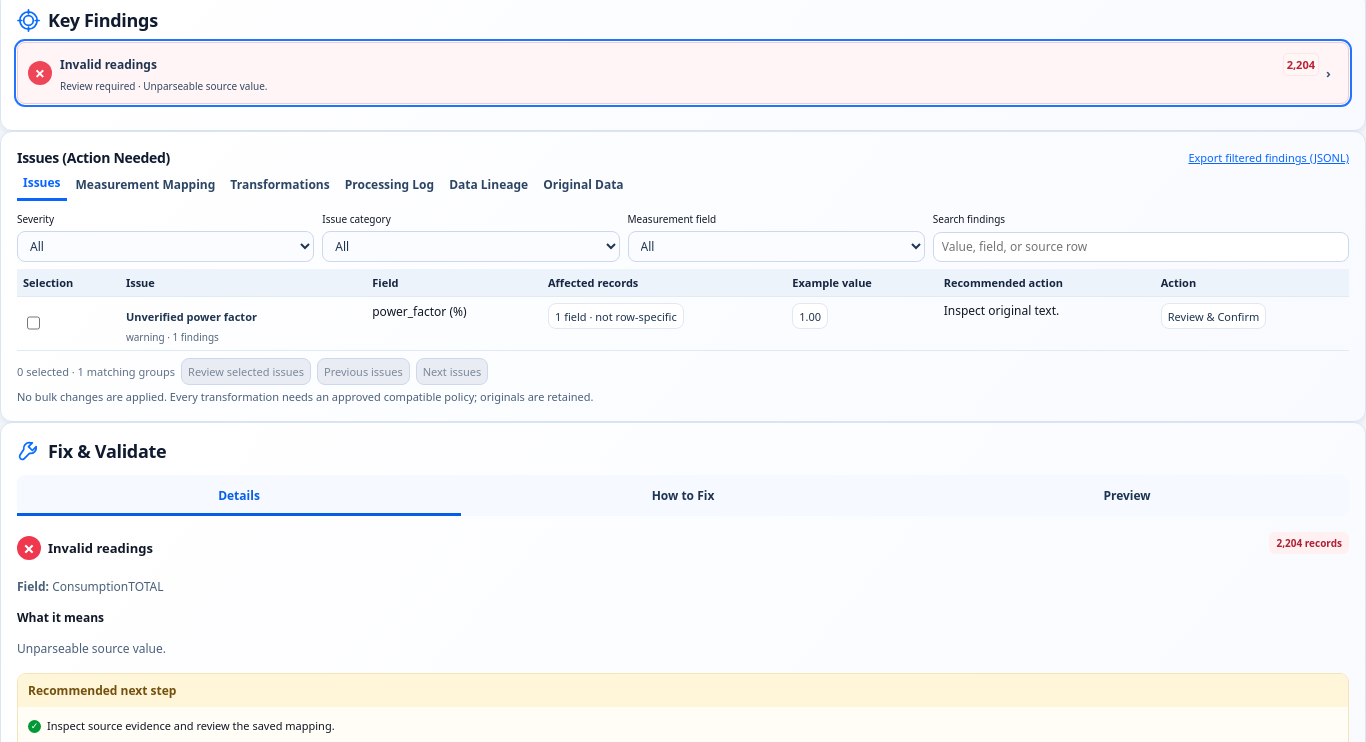
Test: previews a chosen scale without applying it, resets cancelled requests and supports keyboard tabs
Later steps or results of the test are not shown.
Click the button "Review & Confirm" at x=1213, y=316, box [1161,303,1266,329]
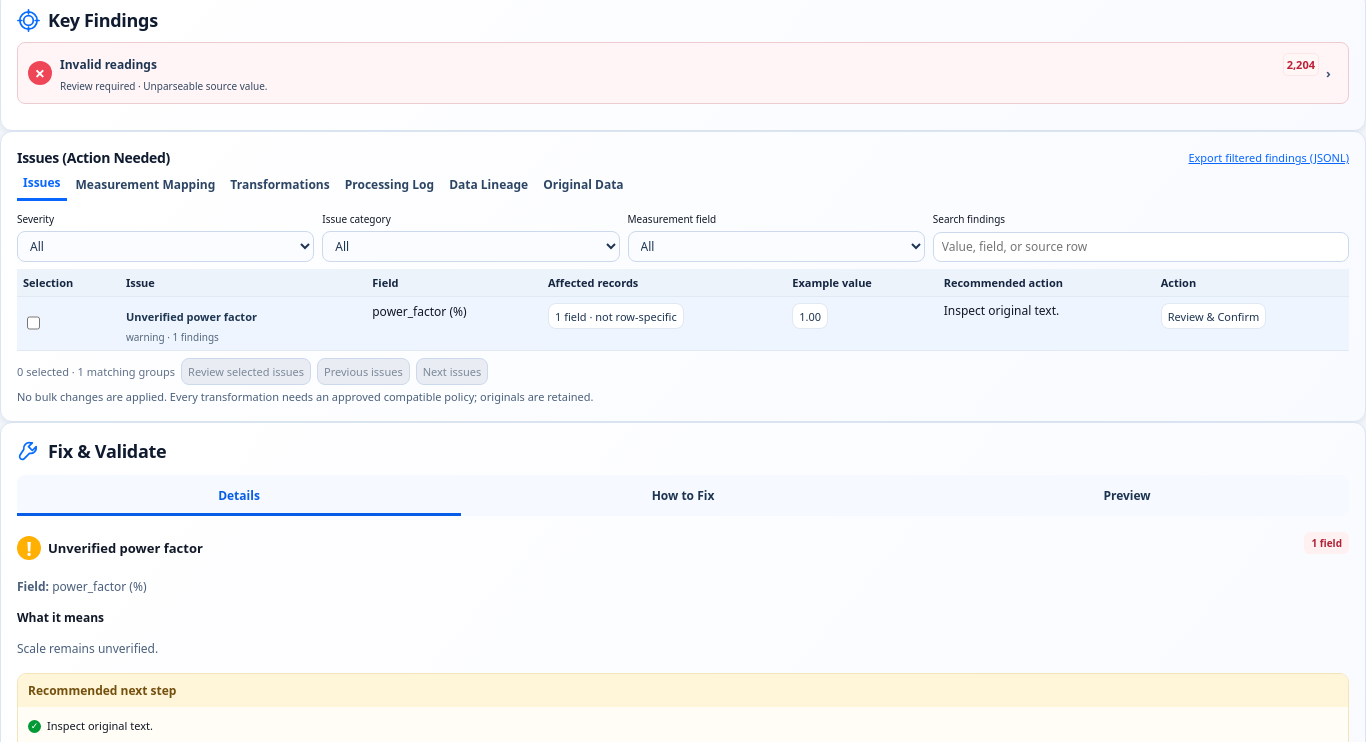
Press End in the tab "Details", box [17,475,461,516]
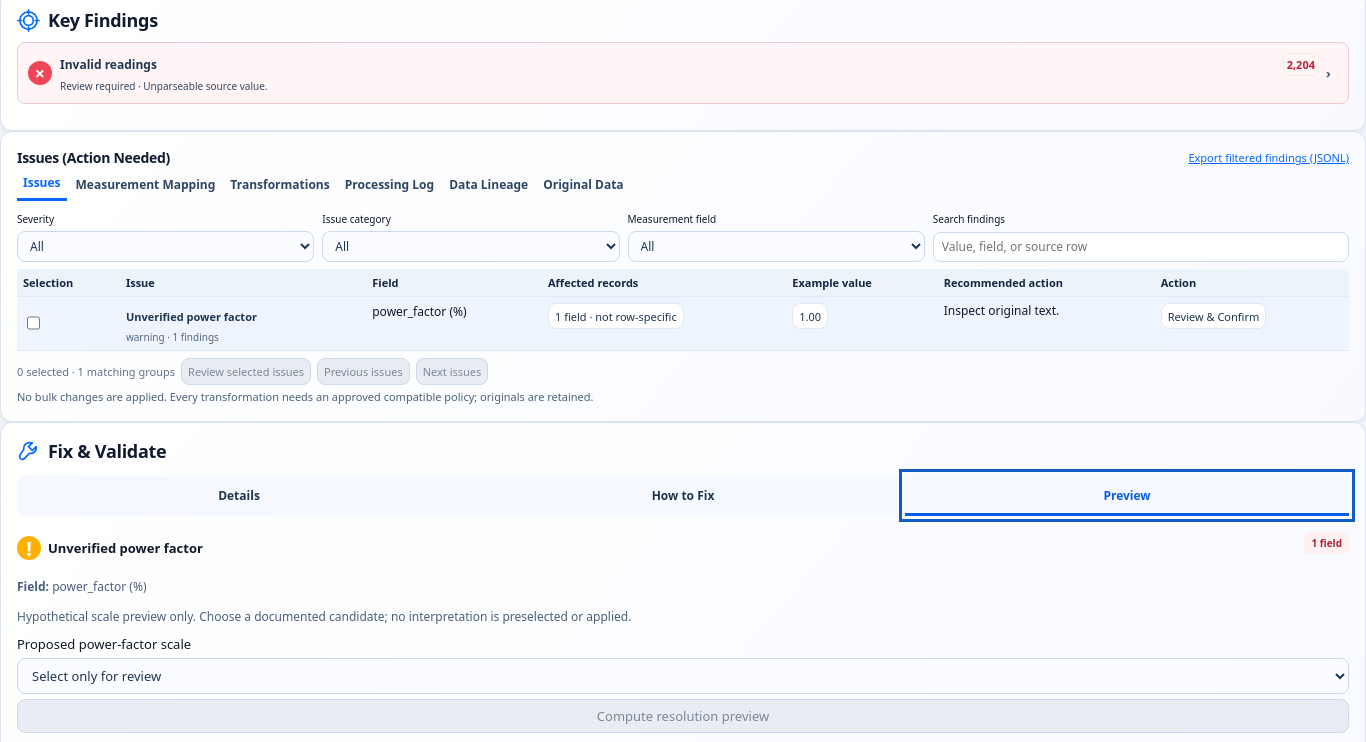
Check: the button "Compute resolution preview" is disabled, box [17,699,1349,733]
Select "Signed ratio, unity = 1" in the dropdown labelled "Proposed power-factor scale" at x=683, y=676, box [17,658,1349,694]
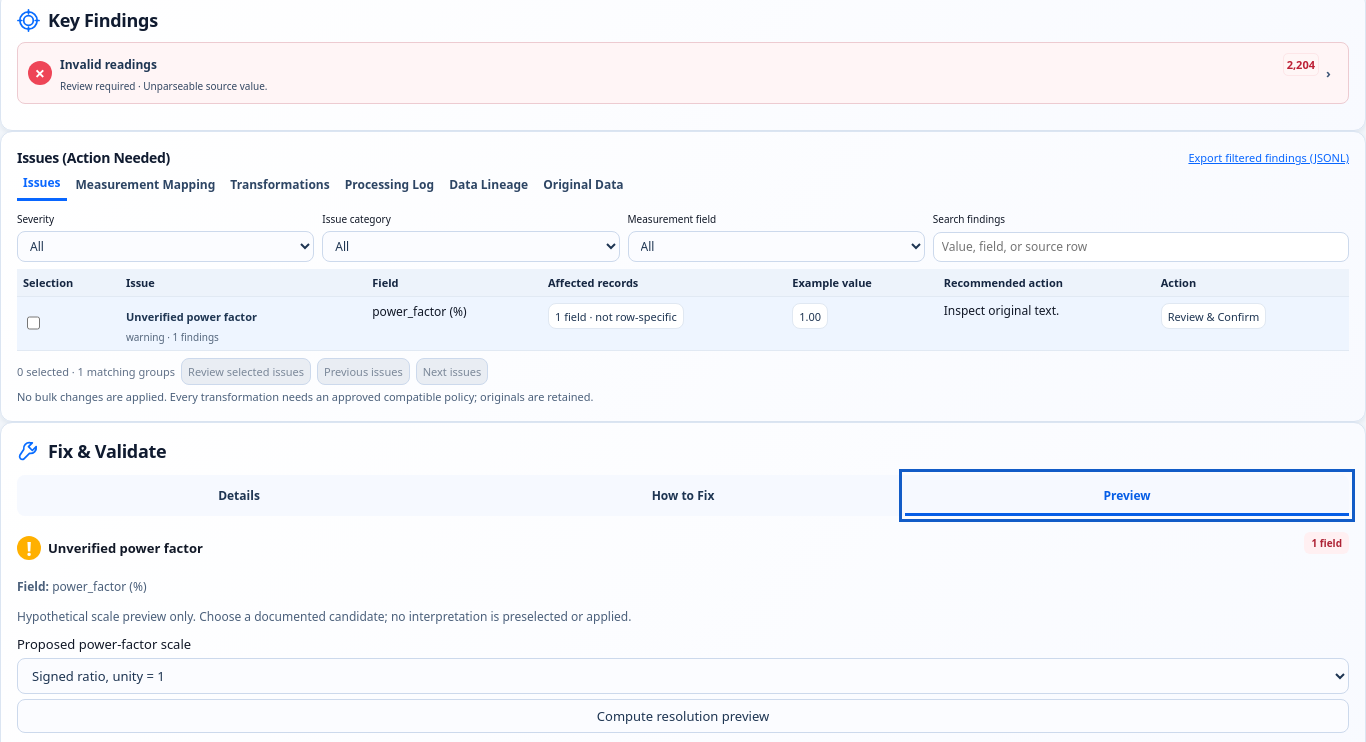
Click the button "Compute resolution preview" at x=683, y=716, box [17,699,1349,733]
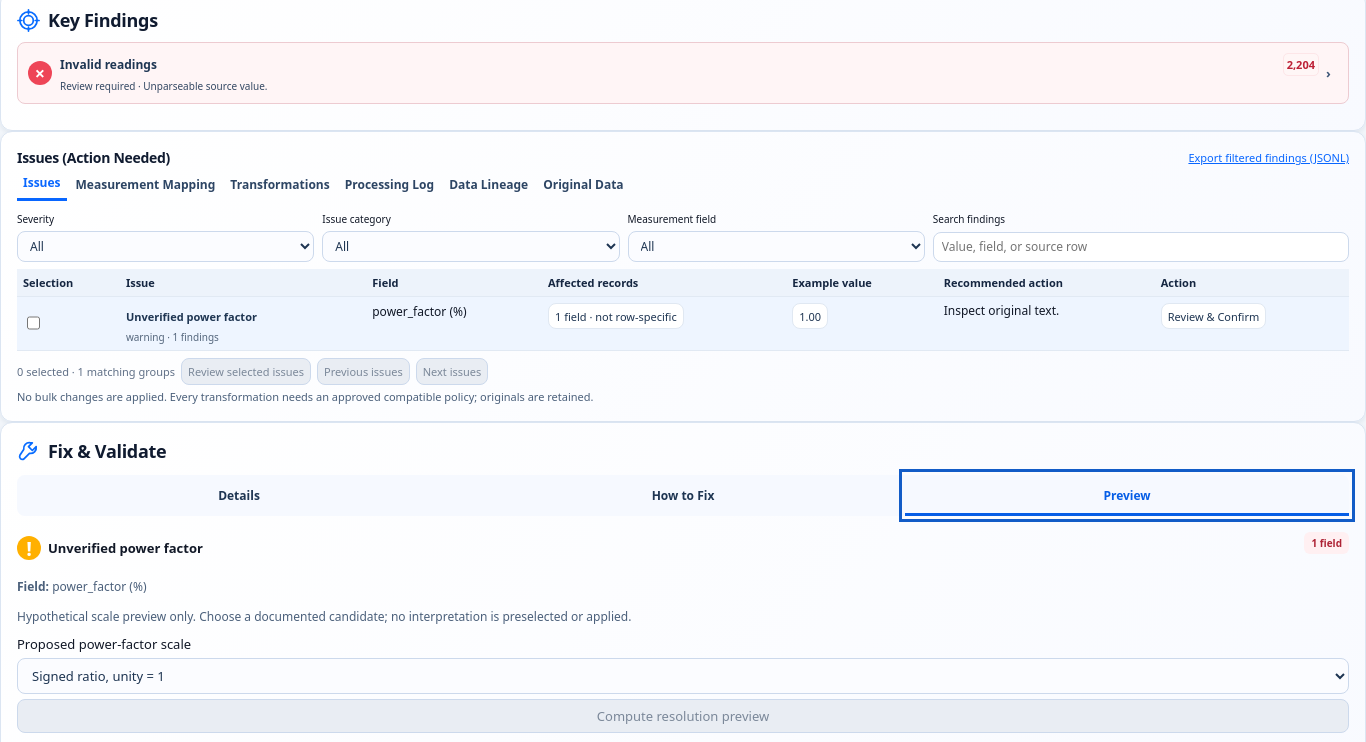
Select "Signed percentage, unity = 100" in the dropdown labelled "Proposed power-factor scale" at x=683, y=676, box [17,658,1349,694]
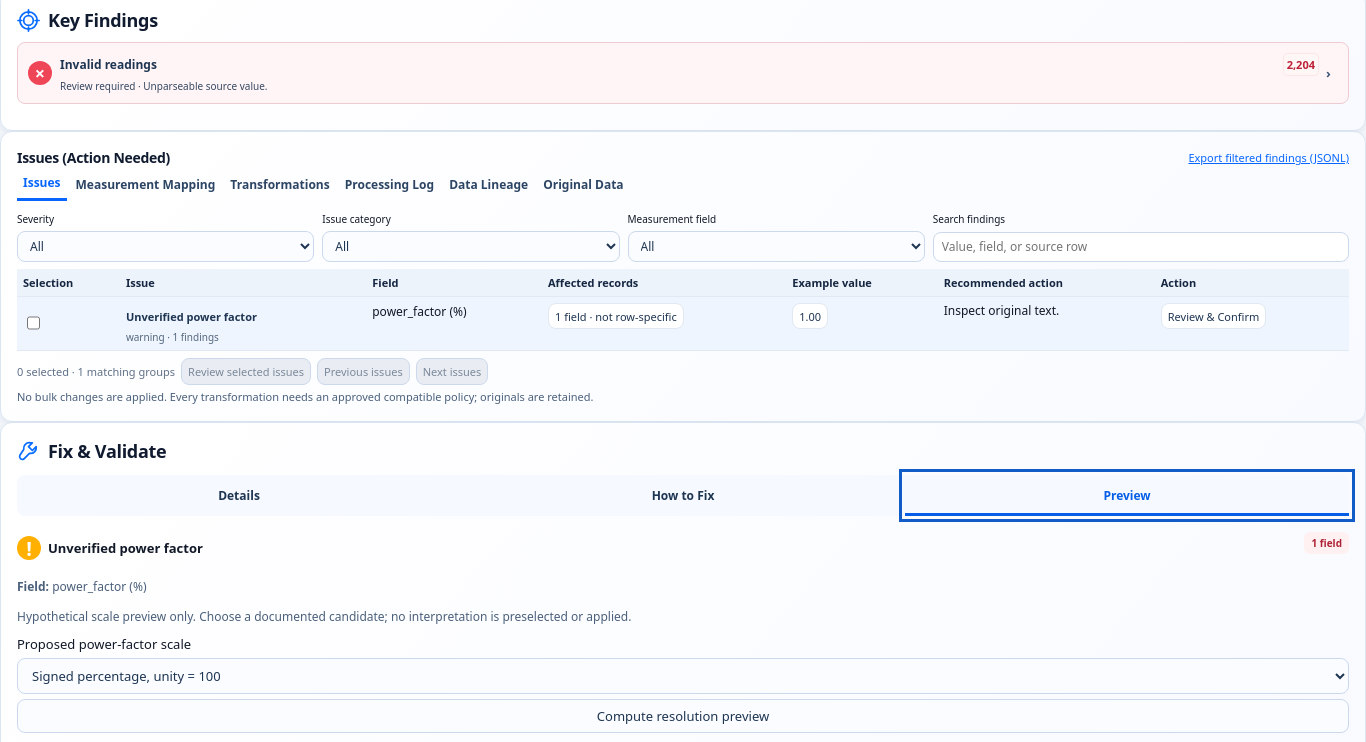
Check: the button "Compute resolution preview" is enabled
Click the button "Compute resolution preview" at x=683, y=716, box [17,699,1349,733]
(page scrolled)
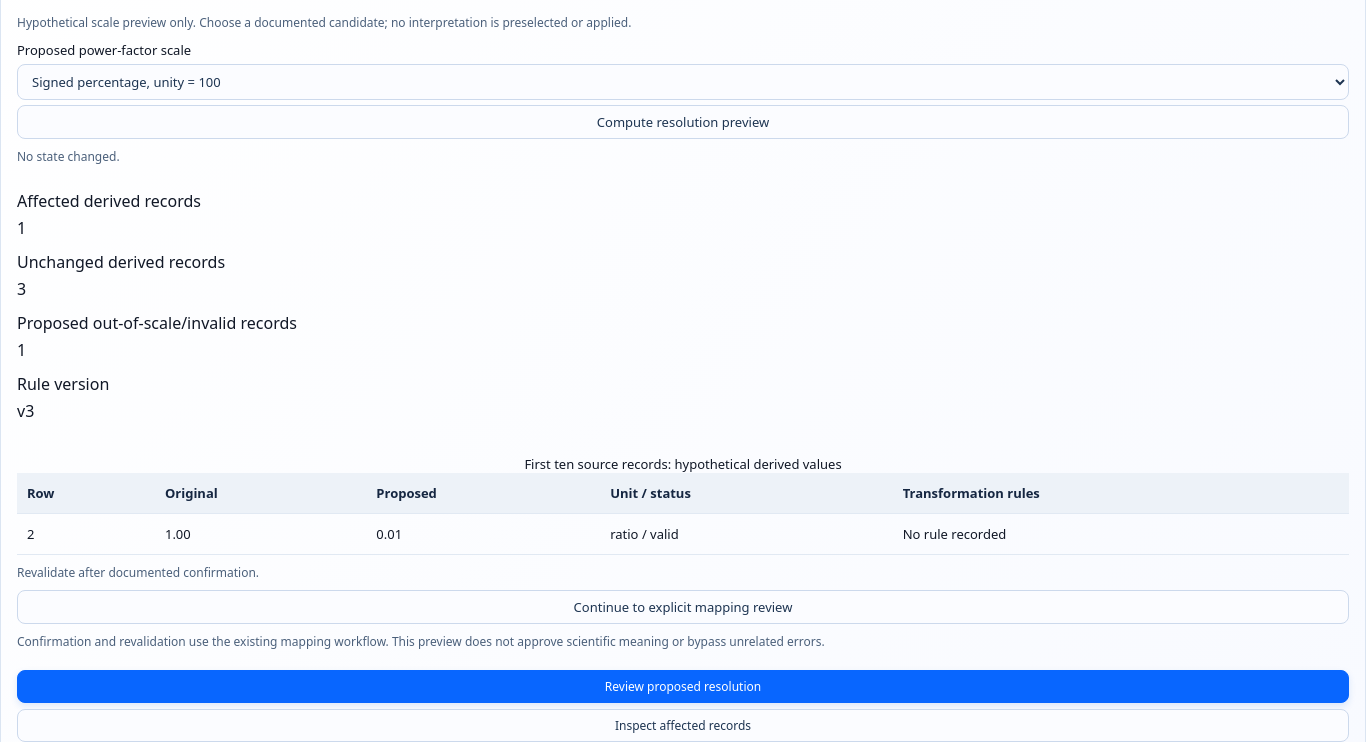
Check: the text "No state changed." is shown, box [17,148,120,165]
Check: the text "0.01" is shown, box [366,514,600,554]
